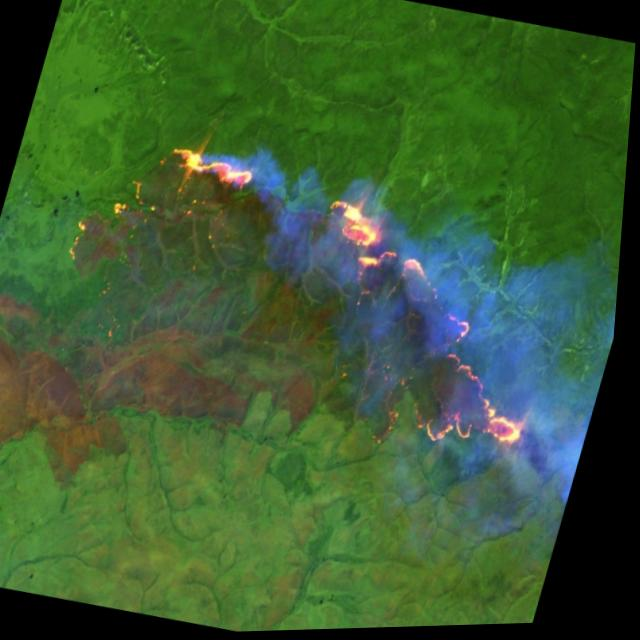fire: (18, 103, 616, 495)
